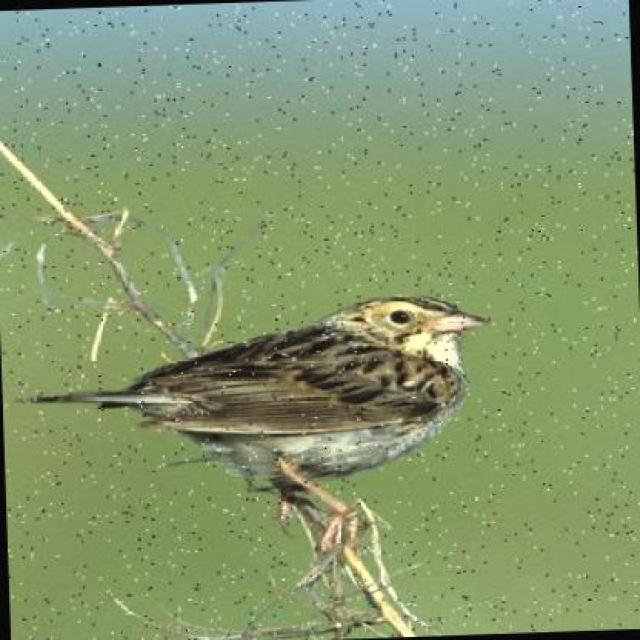Bird: (47, 289, 504, 579)
